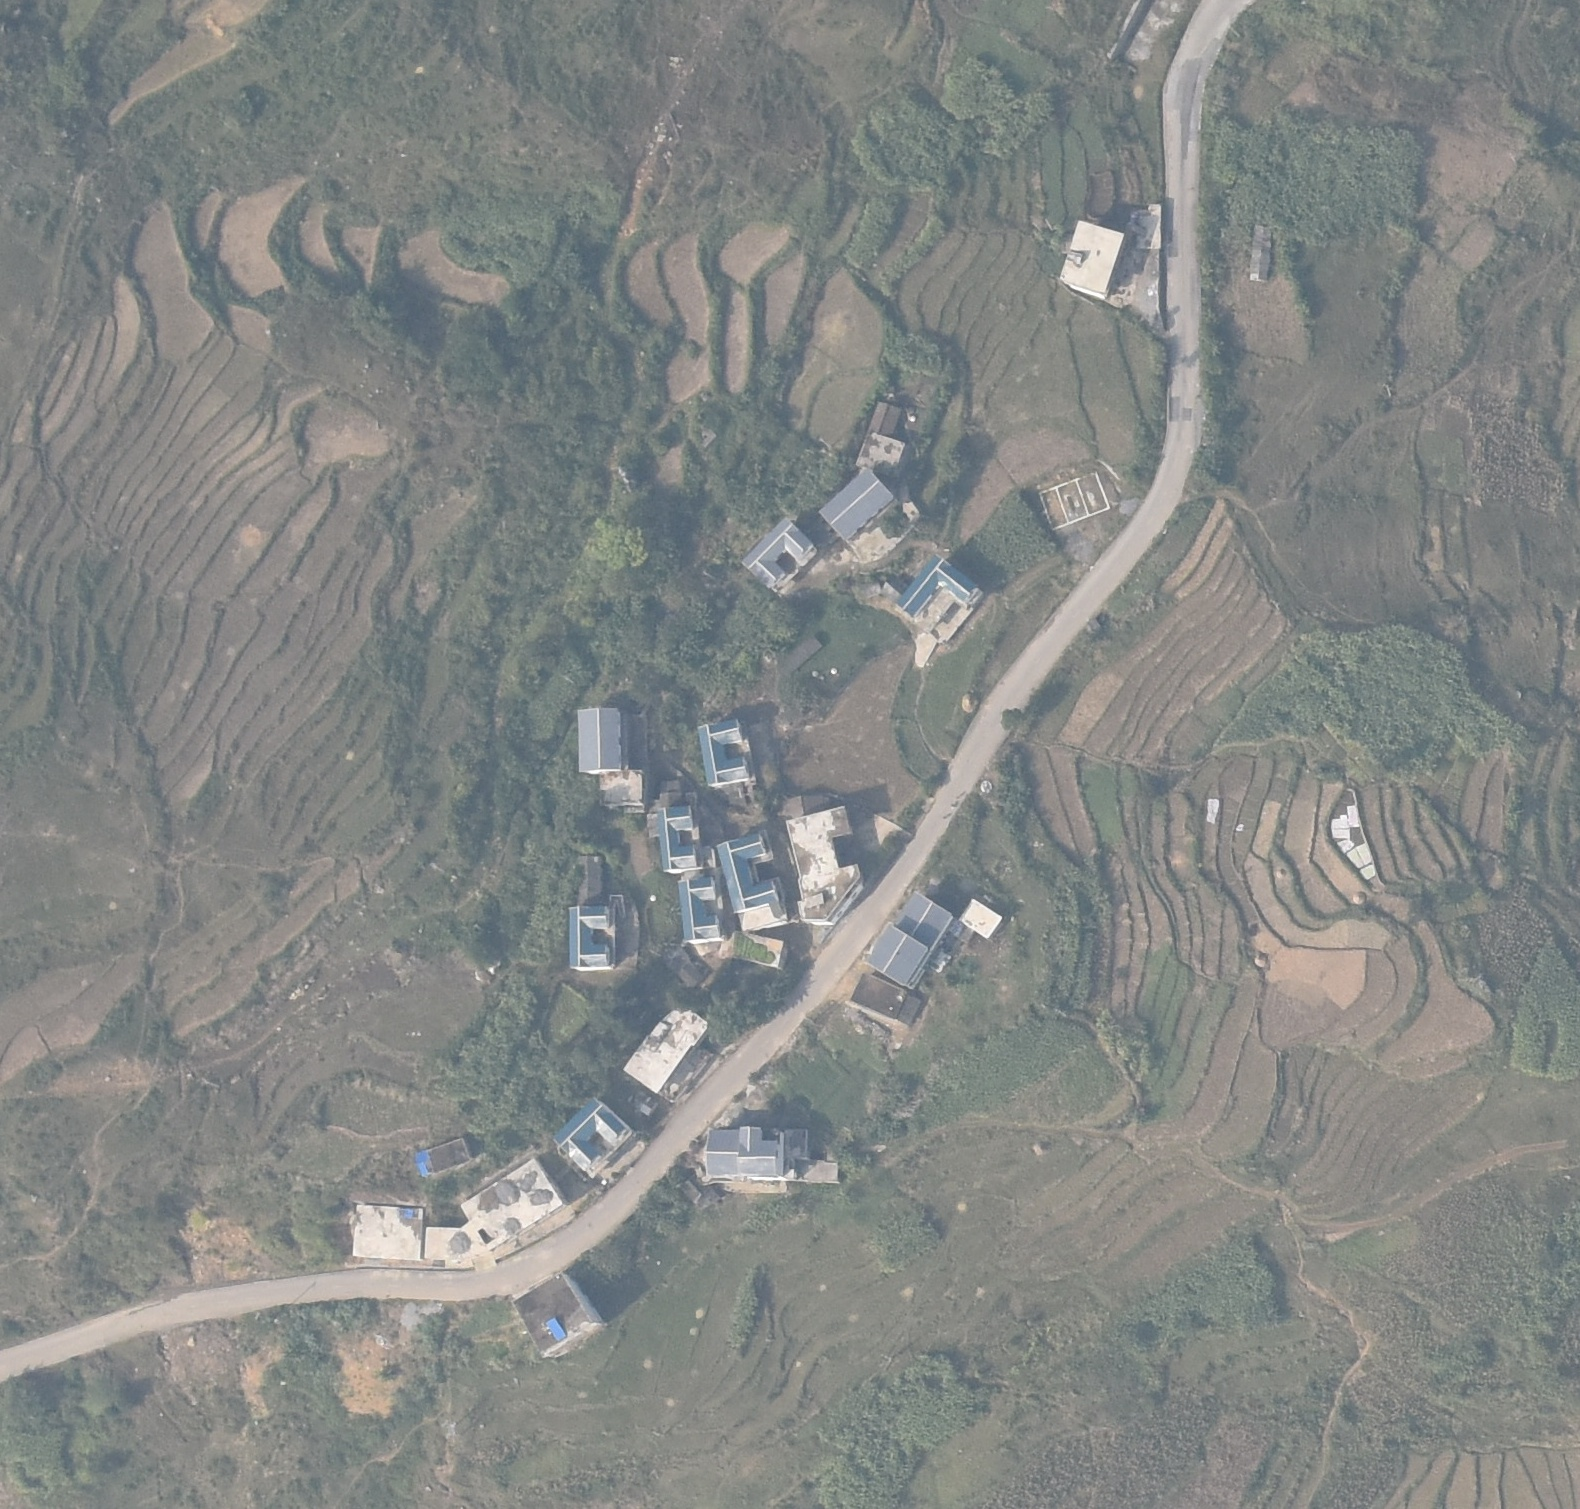building: (425, 1155, 572, 1273), (778, 799, 865, 925), (861, 880, 957, 988), (619, 1007, 723, 1095), (341, 1183, 437, 1271), (713, 827, 794, 929), (511, 1268, 605, 1355), (820, 465, 901, 549), (735, 516, 818, 592), (895, 559, 996, 621), (1062, 215, 1133, 303), (563, 1103, 638, 1186), (691, 1121, 788, 1182), (1035, 461, 1113, 530), (692, 722, 762, 793), (672, 872, 730, 955), (562, 893, 624, 970), (648, 805, 710, 878), (853, 969, 922, 1034), (567, 710, 628, 778), (860, 398, 907, 471), (589, 772, 653, 823), (417, 1138, 475, 1176), (957, 901, 1006, 941)
prefabricated-house: (1248, 218, 1280, 286), (546, 1318, 568, 1343)
